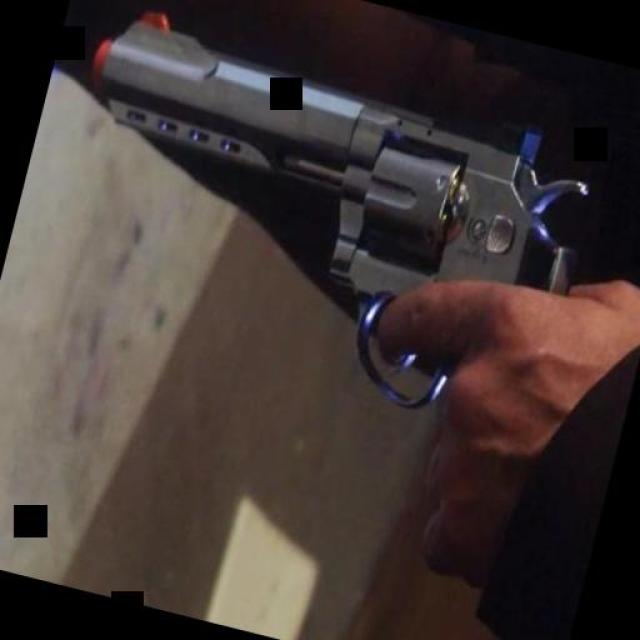gun: (28, 0, 612, 438)
